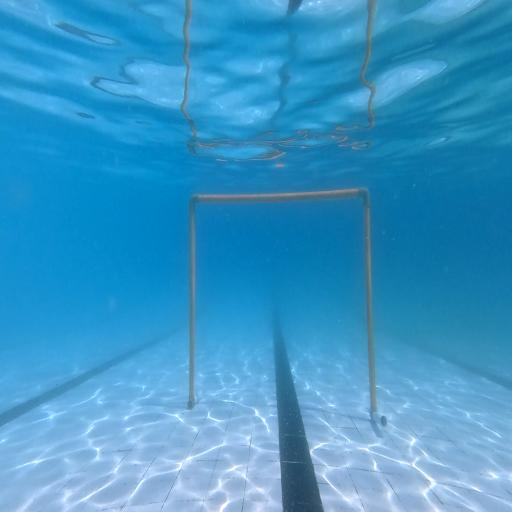gate: (188, 187, 387, 427)
